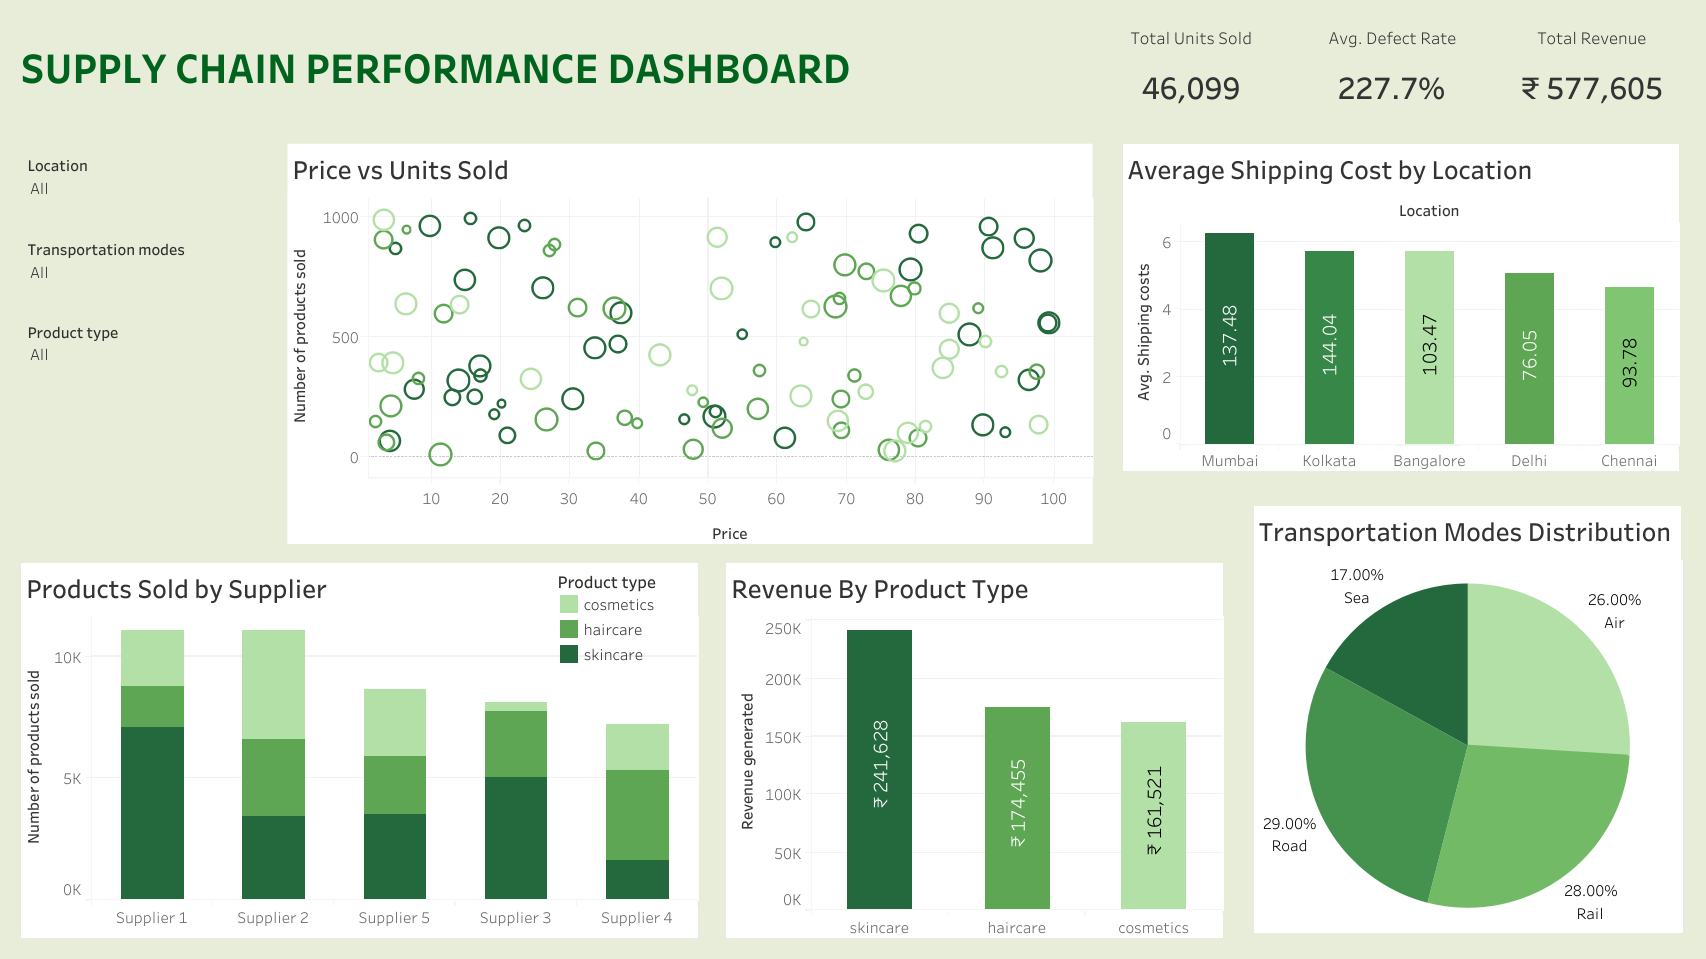

The dashboard page shown, as its layout file describes it:
{"tool":"tableau","page":{"name":"Dashboard","canvas":[1366,768],"ordinal":0},"visuals":[{"type":"text","box":[10,10,860,85]},{"type":"worksheet","title":"Total Units Sold","mark":"Automatic","box":[870,10,166,85]},{"type":"worksheet","title":"Avg. Defect Rate","mark":"Automatic","box":[1036,10,156,85]},{"type":"worksheet","title":"Total Revenue","mark":"Automatic","box":[1192,10,163,85]},{"type":"worksheet","title":"Price vs Units Sold","mark":"Automatic","rows":["Number of products sold"],"cols":["Price"],"box":[225,110,654,320]},{"type":"worksheet","title":"Average Shipping Cost by Location","mark":"Automatic","rows":["Shipping costs"],"cols":["Location"],"box":[893,110,455,272]},{"type":"filter","title":"Revenue By Product Type","param":"[federated.12yq01r1cjj3ds11vye3o1iobl9l].[none:Location:nk]","box":[18,118,200,67]},{"type":"filter","title":"Transportation Modes Distribution","param":"[federated.12yq01r1cjj3ds11vye3o1iobl9l].[none:Transportation modes:nk]","box":[18,185,200,66]},{"type":"filter","title":"Products Sold by Supplier","param":"[federated.12yq01r1cjj3ds11vye3o1iobl9l].[none:Product type:nk]","box":[18,251,200,66]},{"type":"worksheet","title":"Transportation Modes Distribution","mark":"Pie","box":[998,400,352,350]},{"type":"worksheet","title":"Products Sold by Supplier","mark":"Automatic","rows":["Number of products sold"],"cols":["Supplier name"],"box":[12,445,551,310]},{"type":"worksheet","title":"Revenue By Product Type","mark":"Automatic","rows":["Revenue generated"],"cols":["Product type"],"box":[576,445,407,310]},{"type":"legend","title":"Products Sold by Supplier","param":"[federated.12yq01r1cjj3ds11vye3o1iobl9l].[none:Product type:nk]","box":[445,453,113,95]}]}

Visuals, with their boxes in screenshot pixels (x1, y1, x2, y2), scaled from the page's 1366x768 canvas onto the 1706x959 screenshot:
text: box(12, 12, 1087, 119)
"Total Units Sold" worksheet: box(1087, 12, 1294, 119)
"Avg. Defect Rate" worksheet: box(1294, 12, 1489, 119)
"Total Revenue" worksheet: box(1489, 12, 1692, 119)
"Price vs Units Sold" worksheet: box(281, 137, 1098, 537)
"Average Shipping Cost by Location" worksheet: box(1115, 137, 1684, 477)
"Revenue By Product Type" filter: box(22, 147, 272, 231)
"Transportation Modes Distribution" filter: box(22, 231, 272, 313)
"Products Sold by Supplier" filter: box(22, 313, 272, 396)
"Transportation Modes Distribution" worksheet (Pie marks): box(1246, 499, 1686, 937)
"Products Sold by Supplier" worksheet: box(15, 556, 703, 943)
"Revenue By Product Type" worksheet: box(719, 556, 1228, 943)
"Products Sold by Supplier" legend: box(556, 566, 697, 684)
